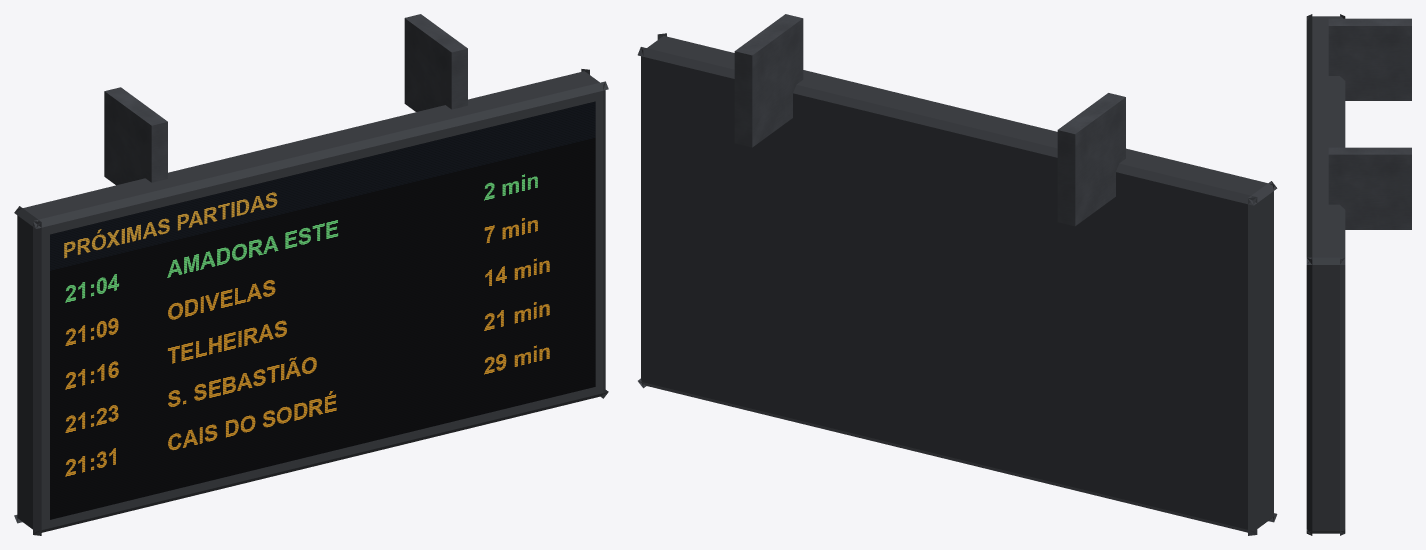
File: departure_board.obj
3 views of the same model, side by side, from view 1: azimuth 30°, elevation 25°; view 2: azimuth 150°, elevation 25°; view 3: azimuth 270°, elevation 25° (orthographic). The views are drawn at different scales.
Visible parts, largest first — view 1: departure_board; view 2: departure_board; view 3: departure_board.
Boxes of the visible parts, x1,y1,x2,y2 form: departure_board: (14, 14, 608, 535); departure_board: (637, 14, 1277, 535); departure_board: (1306, 14, 1411, 535).
Bounding box in the file's own units: 2.1 × 1.3 × 0.382.
